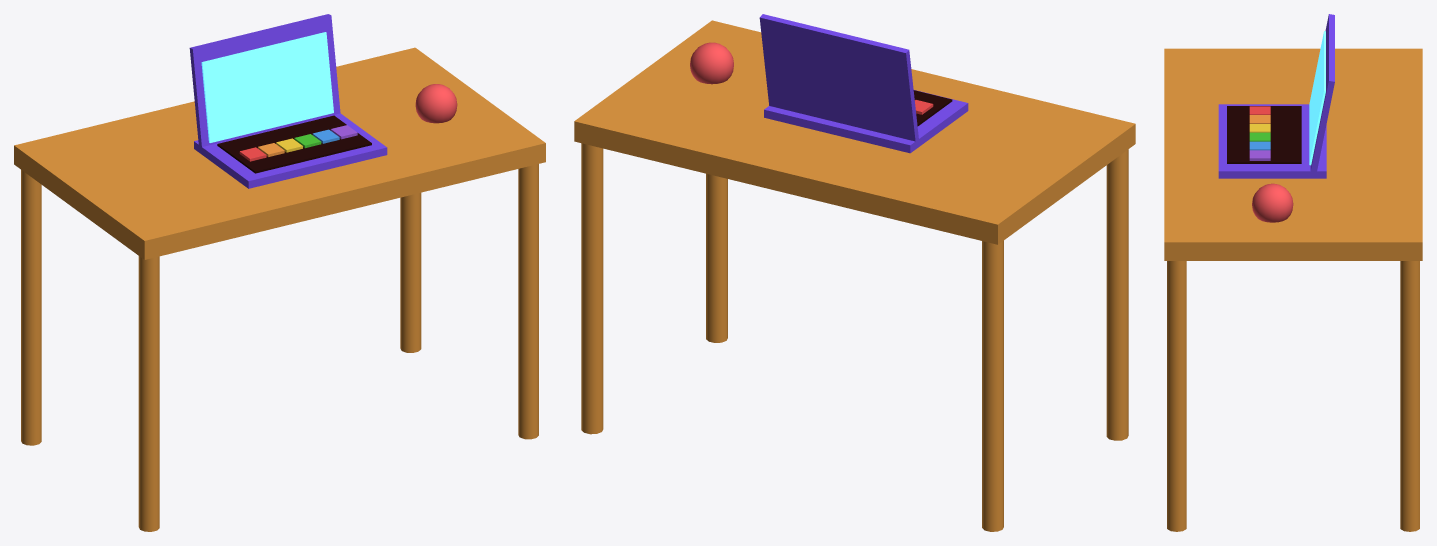
Rendered from pc_fun_1.glb.
3 renders of one model, left to right at view 1: azimuth 30°, elevation 25°; view 2: azimuth 150°, elevation 25°; view 3: azimuth 270°, elevation 25°, orthographic. The views are drawn at different scales.
Bounding box in the file's own units: 1.1 × 1.03 × 0.62.
